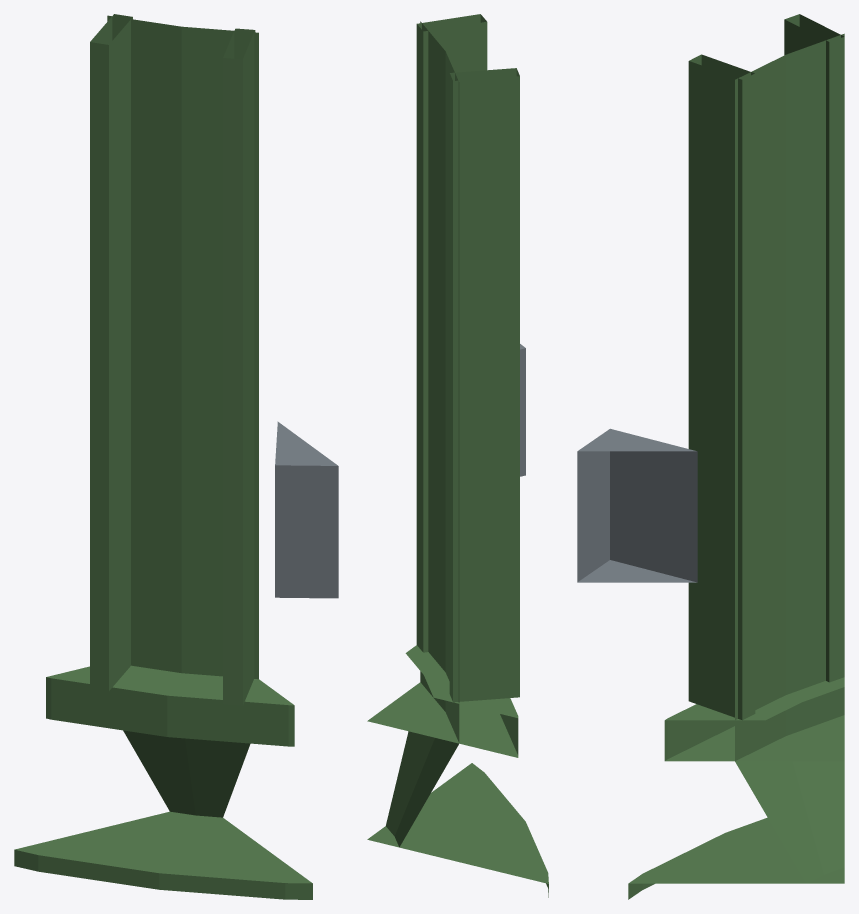
Rendered from cell_41.obj.
3 views of the same model, side by side, from view 1: azimuth 30°, elevation 25°; view 2: azimuth 150°, elevation 25°; view 3: azimuth 270°, elevation 25° (orthographic). The views are drawn at different scales.
Size of the model in its own units: 0.2393 by 1 by 0.2958.
